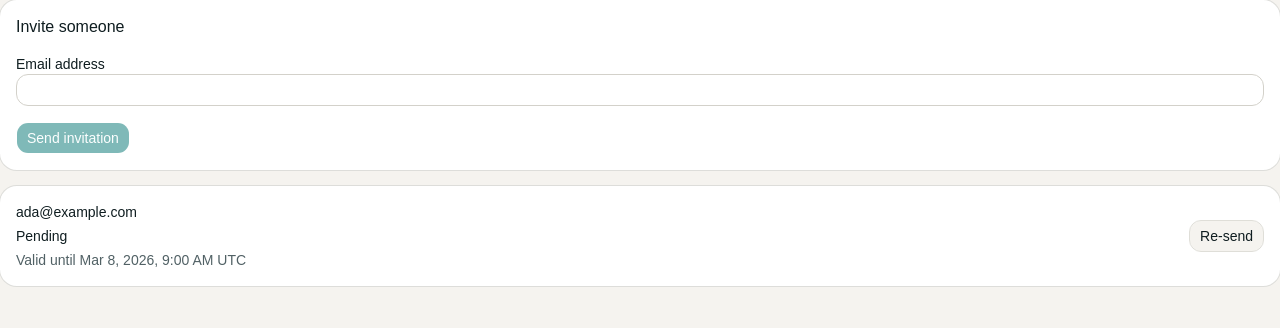
Test: InvitationsAdminPage › explains why a re-send was refused
Click the button "Re-send".
click(1227, 236)  # box 1189,220 -> 1264,252
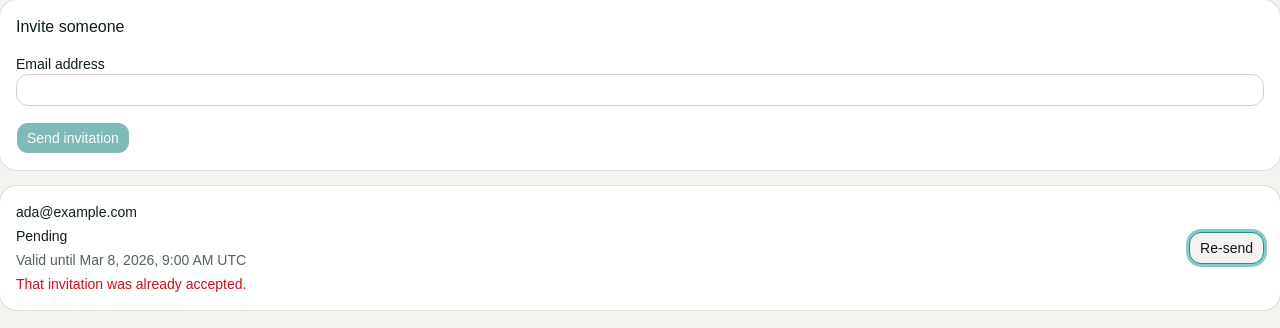
Expected: the message reads "That invitation was already accepted.", 16,276 -> 246,292
